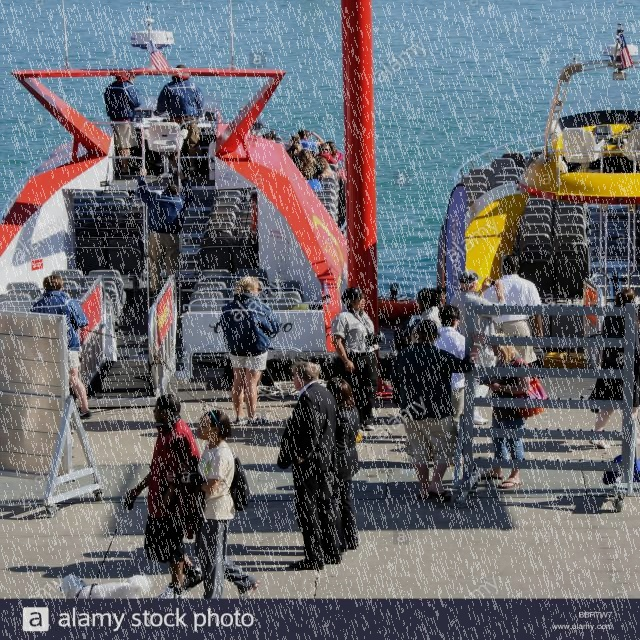pessoa: (386, 316, 490, 502), (165, 408, 262, 600), (123, 393, 204, 599), (273, 358, 347, 572), (473, 330, 551, 492), (445, 269, 510, 429), (217, 273, 283, 428), (27, 273, 94, 421), (584, 286, 640, 450), (131, 168, 196, 300), (6, 535, 156, 588), (329, 285, 379, 433), (480, 252, 544, 366), (326, 376, 362, 554), (152, 62, 205, 176), (429, 302, 466, 434), (104, 74, 142, 178), (410, 286, 446, 347), (294, 148, 326, 192), (296, 128, 326, 152), (292, 299, 324, 317), (314, 156, 336, 180), (262, 125, 284, 149), (315, 143, 337, 165), (285, 142, 303, 168), (324, 141, 342, 163), (286, 134, 302, 154), (308, 150, 318, 158)
